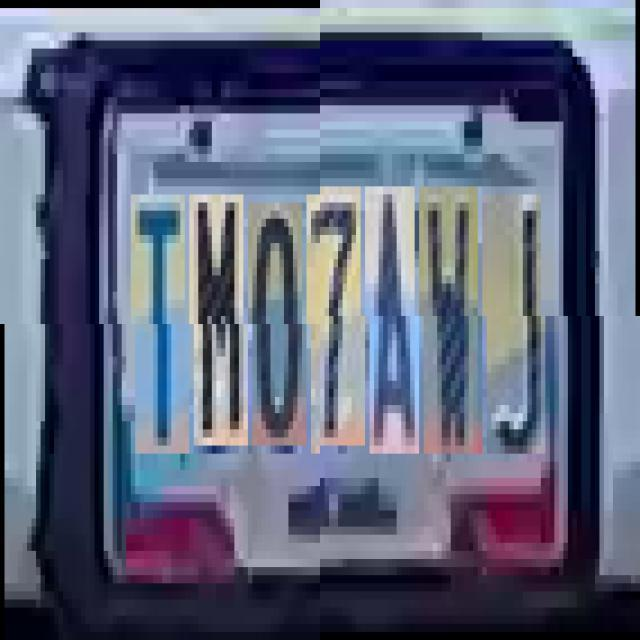7: (311, 194, 365, 453)
A: (370, 194, 420, 462)
J: (487, 203, 545, 462)
M: (194, 194, 248, 446)
O: (252, 202, 306, 446)
T: (136, 194, 190, 453)
W: (424, 194, 482, 462)
